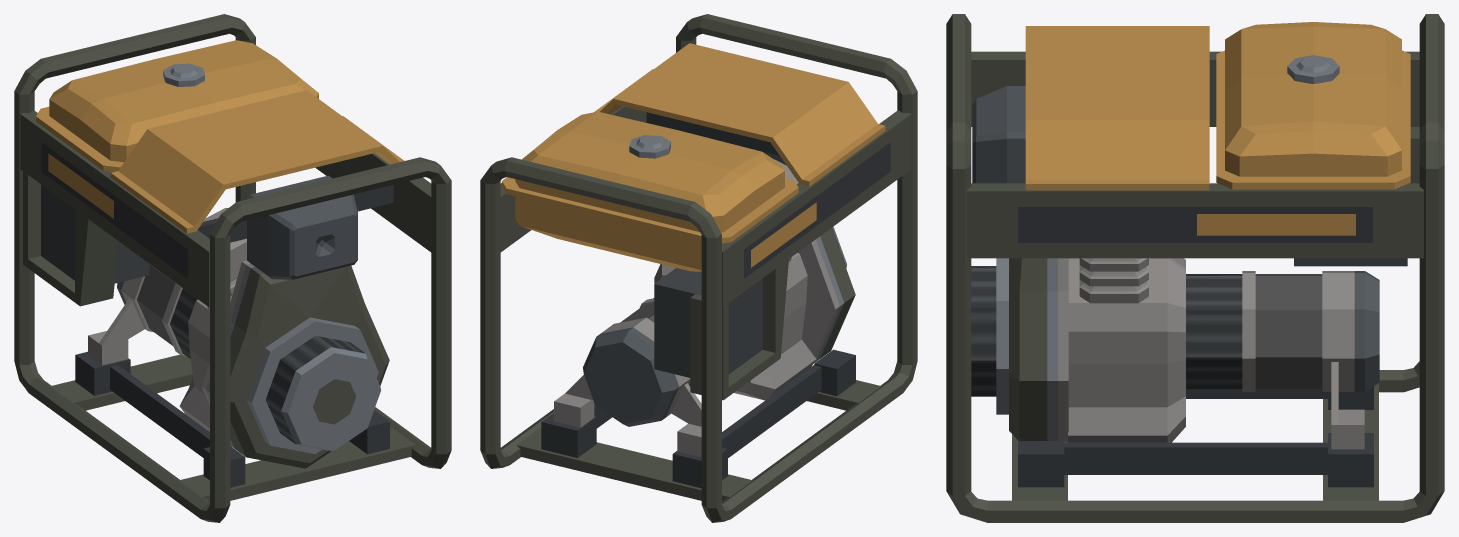
File: SM_Prop_Generator_Small_01.glb
3 views of the same model, side by side, from view 1: azimuth 30°, elevation 25°; view 2: azimuth 150°, elevation 25°; view 3: azimuth 270°, elevation 25° (orthographic). The views are drawn at different scales.
Parts seen in each view (by area): view 1: SM_Prop_Generator_Small_01; view 2: SM_Prop_Generator_Small_01; view 3: SM_Prop_Generator_Small_01.
Boxes of the visible parts, bbox=[...] form: SM_Prop_Generator_Small_01: bbox=[14, 14, 451, 522]; SM_Prop_Generator_Small_01: bbox=[480, 14, 917, 522]; SM_Prop_Generator_Small_01: bbox=[946, 14, 1444, 522].
Size of the model in its own units: 0.4252 by 0.5613 by 0.6404.
1 material, 1 textured.
